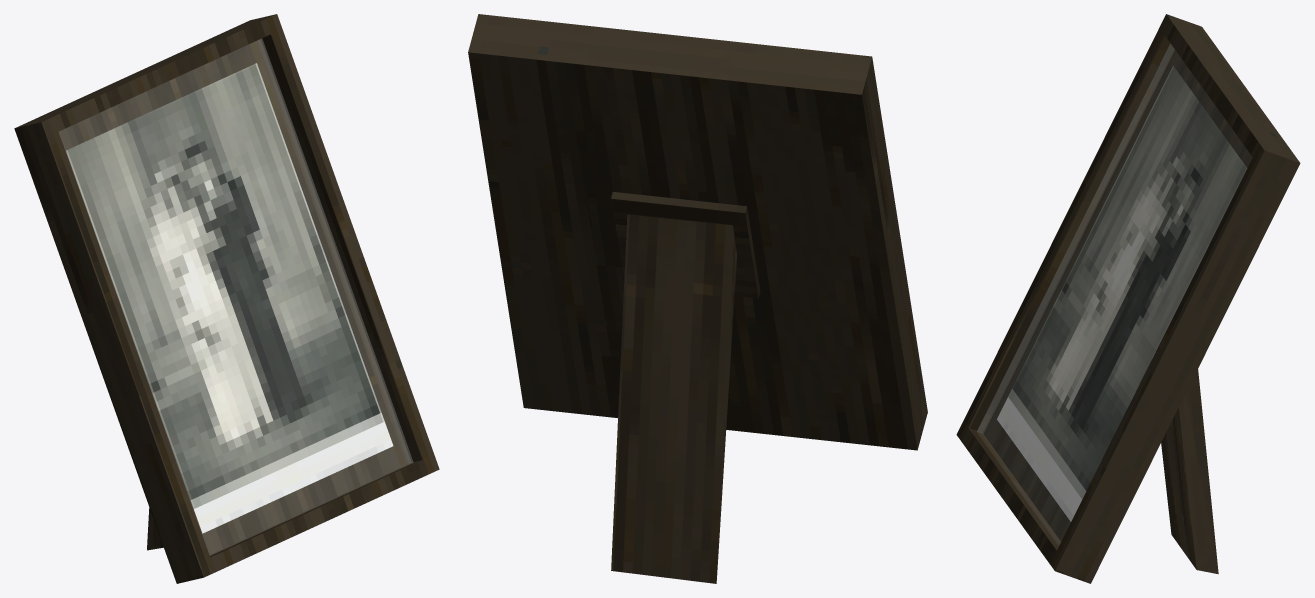
Rendered from frame_wedding.fbx.
3 views of the same model, side by side, from view 1: azimuth 30°, elevation 25°; view 2: azimuth 150°, elevation 25°; view 3: azimuth 270°, elevation 25° (orthographic). The views are drawn at different scales.
Parts seen in each view (by area): view 1: model; view 2: model; view 3: model.
Part boxes in pixels (box(x1,y1,x2,y2)): model: box(14, 14, 439, 583); model: box(468, 14, 927, 583); model: box(956, 14, 1300, 583).
Bounding box in the file's own units: 24.8 × 31.64 × 21.01.
